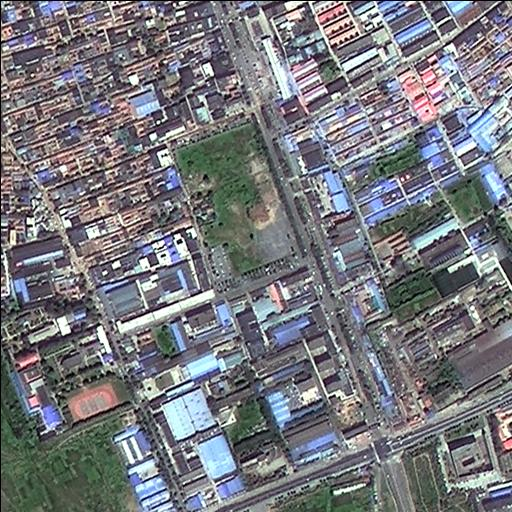school: (10, 309, 126, 442), (370, 228, 414, 265)
